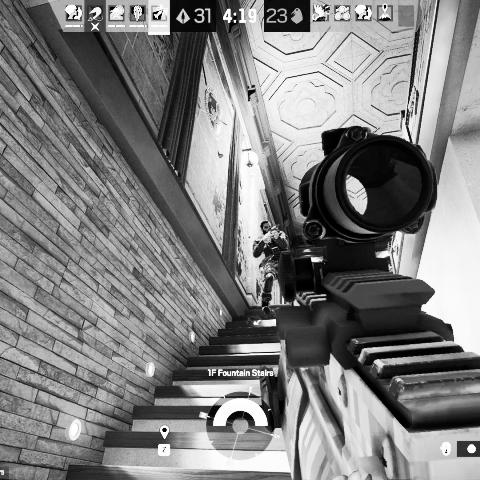Character: (251, 219, 293, 316)
Head: (260, 220, 273, 234)
